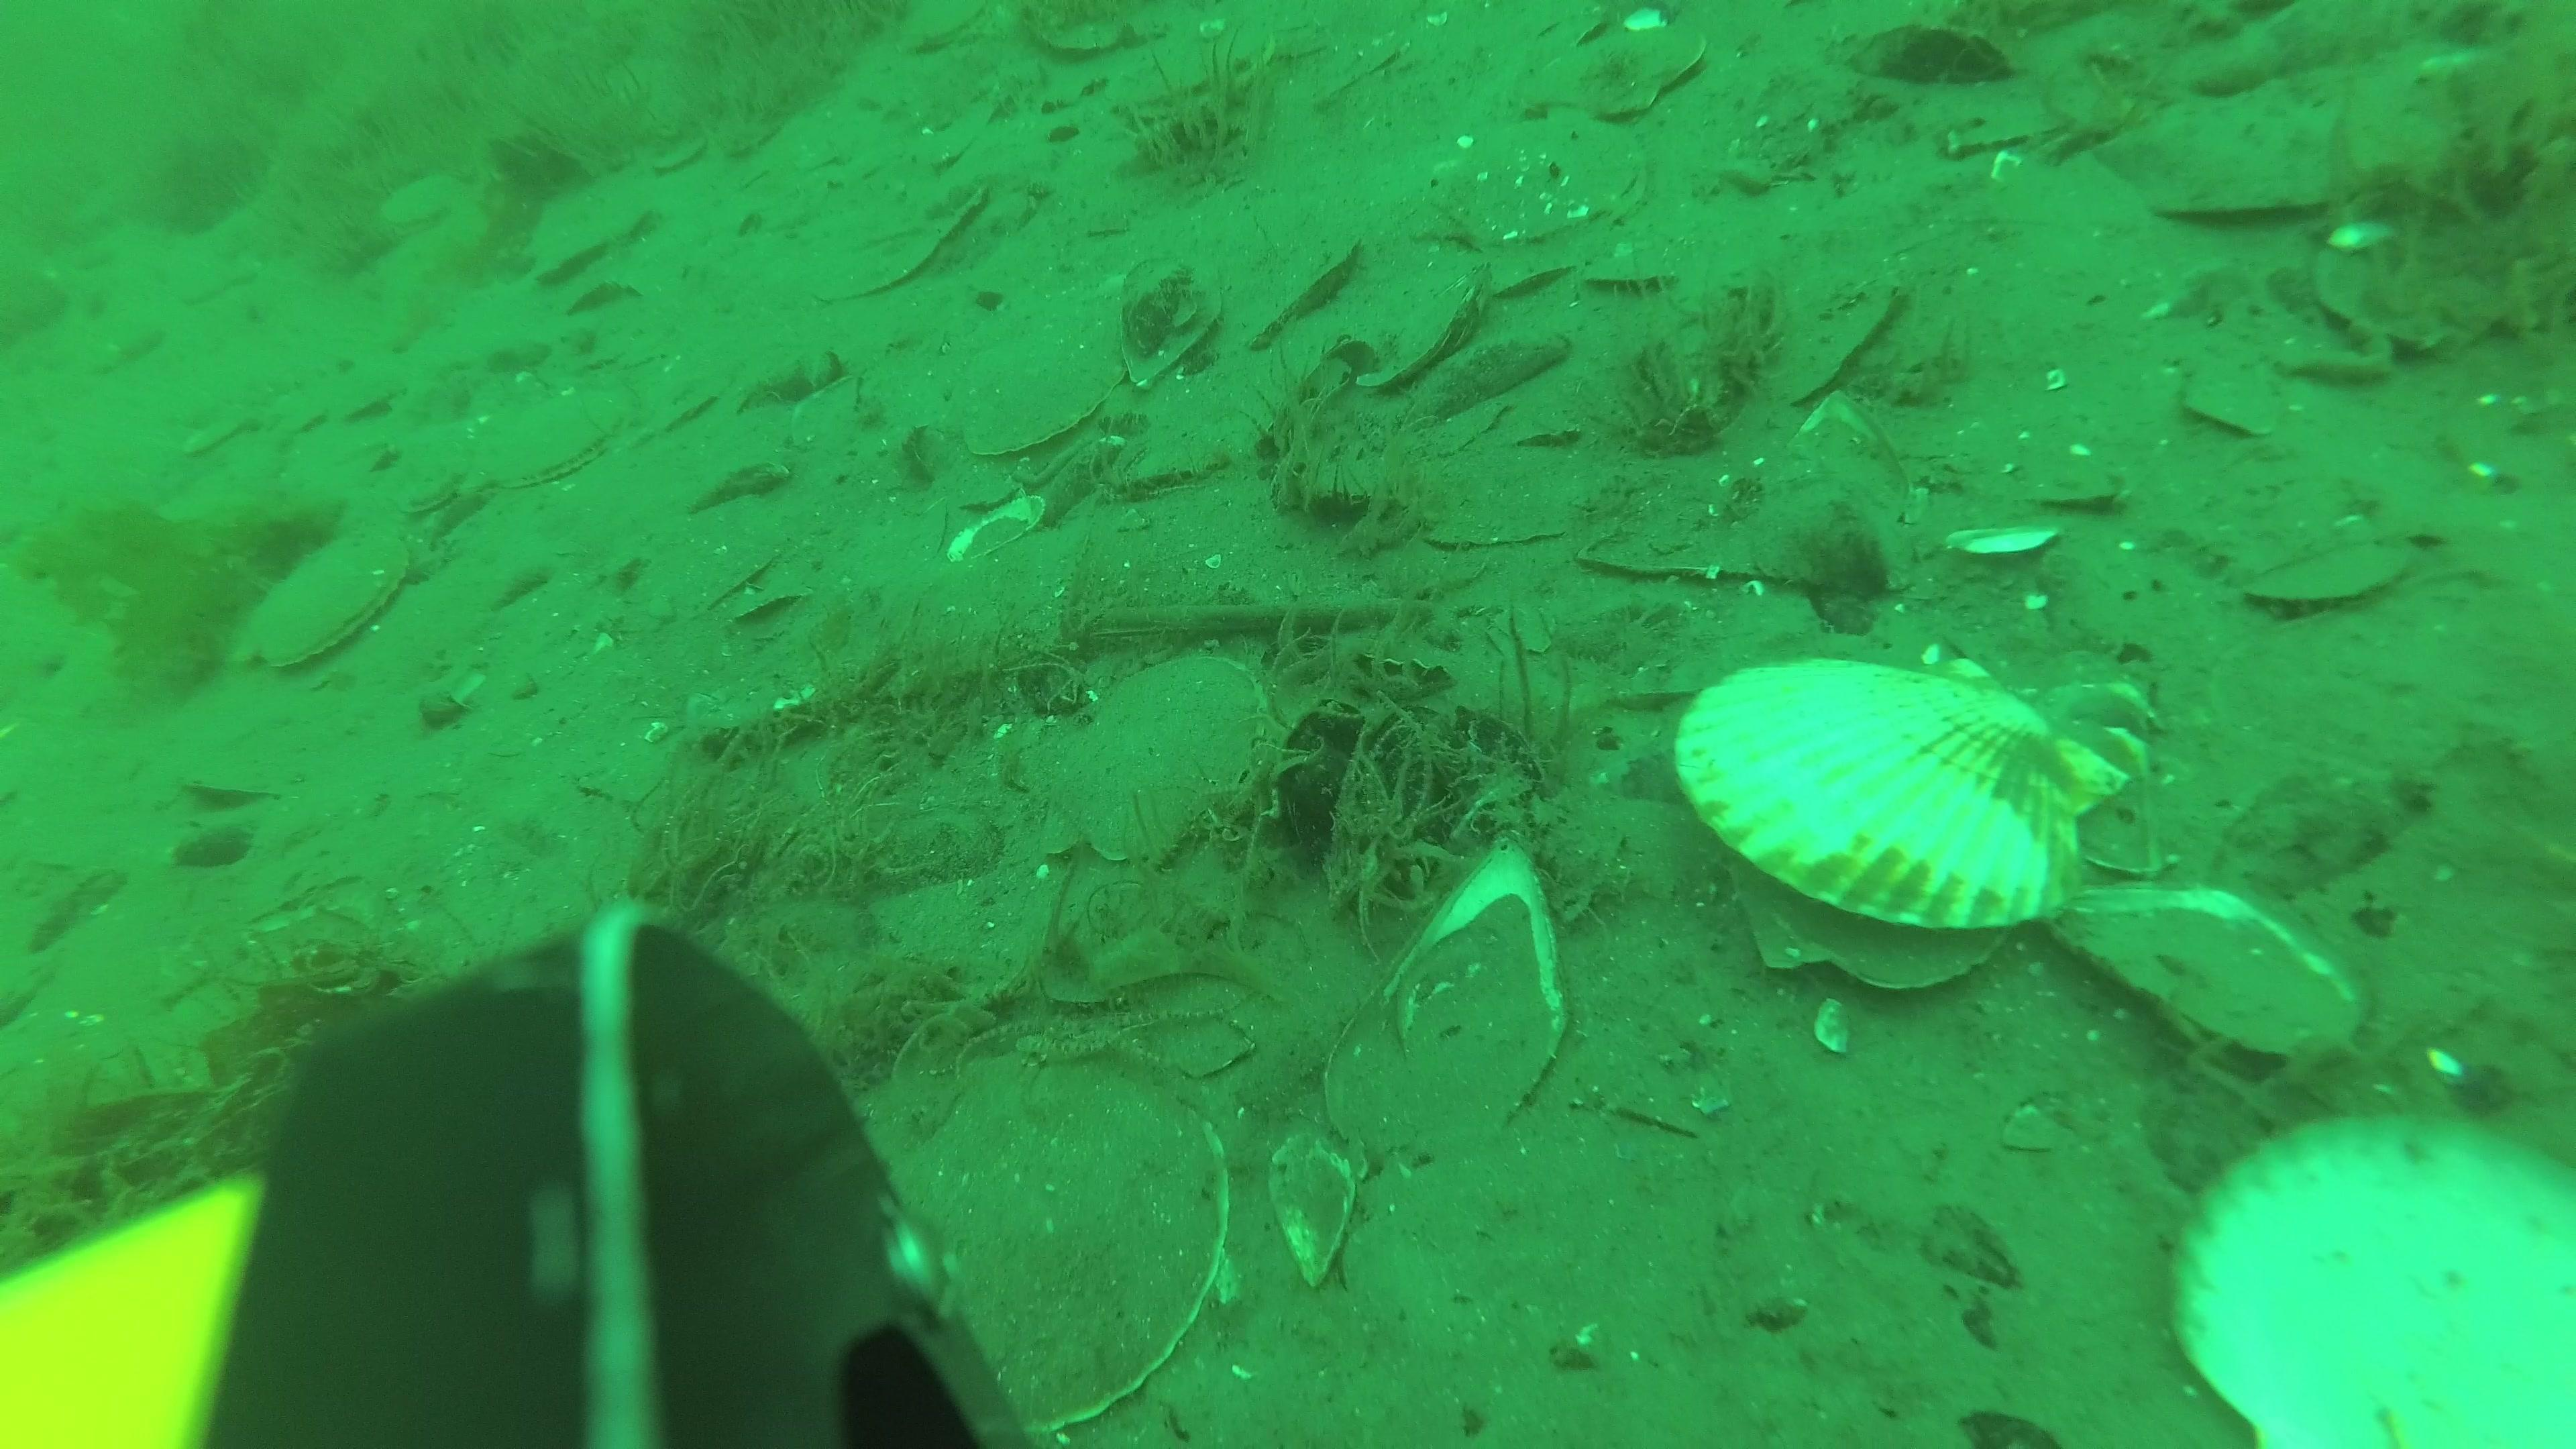scallop: (1684, 637, 2127, 977), (1035, 649, 1292, 867), (1430, 117, 1661, 255), (244, 525, 410, 686), (959, 352, 1132, 469), (1543, 25, 1718, 131), (2250, 527, 2426, 617), (479, 384, 632, 487), (1348, 272, 1477, 384), (517, 191, 651, 280), (1254, 239, 1359, 338), (373, 449, 465, 531), (1587, 225, 1683, 303), (1495, 232, 1576, 292)
